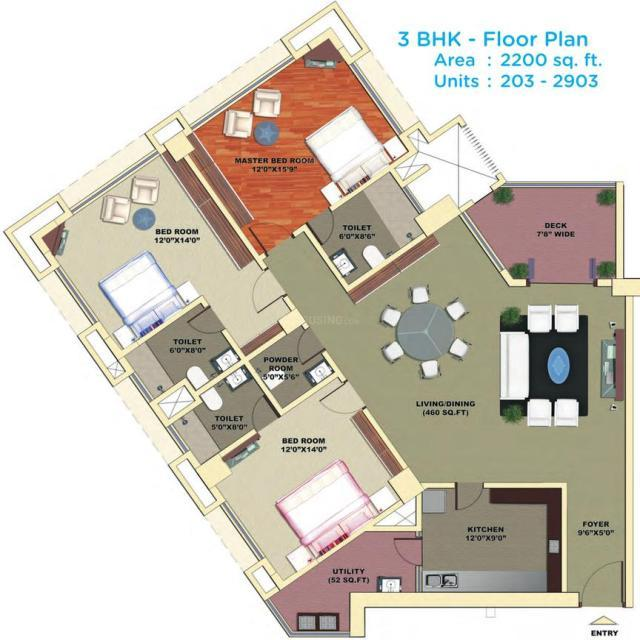Bedroom: (59, 174, 236, 322), (219, 405, 396, 553)
Bedroom with Toilet: (184, 31, 437, 290)
Dining: (367, 285, 482, 380)
Enterance-Foyer: (560, 480, 633, 610)
Kitchen: (417, 484, 569, 594)
Living: (499, 279, 630, 487)
Toilet: (313, 188, 424, 268), (127, 319, 235, 399), (166, 382, 276, 454)
Utility: (264, 531, 419, 640)
